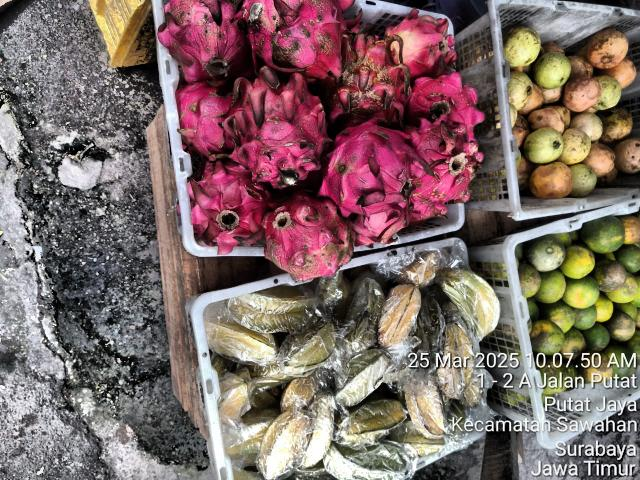buah-naga-belum-matang: (384, 11, 460, 73)
buah-naga-matang: (328, 122, 422, 236), (226, 75, 322, 181), (266, 190, 358, 282), (326, 28, 416, 118), (242, 2, 348, 73), (154, 1, 252, 74), (187, 159, 266, 239), (410, 127, 484, 209), (172, 85, 240, 149), (411, 74, 481, 136)
